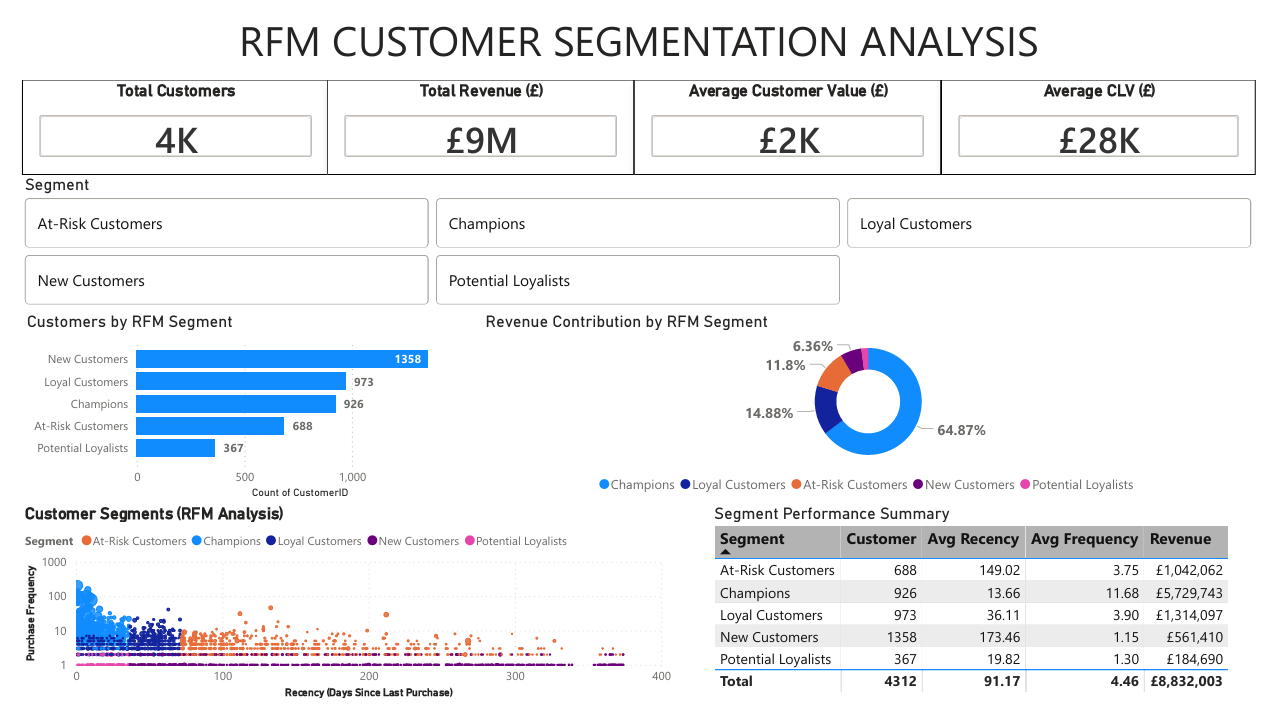

The page's visual inventory and layout, read from the dashboard file:
{"tool":"powerbi","page":{"name":"Page 1","canvas":[1280,720],"ordinal":0},"visuals":[{"type":"cardVisual","title":"Total Customers","fields":{"Data":["rfm_segments.Total Customers"]},"box":[1.7,74.5,318,99.4],"z":0},{"type":"cardVisual","title":"Total Revenue (£)","fields":{"Data":["select","rfm_segments.Total Revenue"]},"box":[318,74.5,318,99.4],"z":1000},{"type":"cardVisual","title":"Average Customer Value (£)","fields":{"Data":["rfm_segments.Avg Customer Value"]},"box":[636.1,74.5,318,99.4],"z":2000},{"type":"cardVisual","title":"Average CLV (£)","fields":{"Data":["rfm_segments.Avg CLV"]},"box":[954.1,74.5,326.3,99.4],"z":3000},{"type":"clusteredBarChart","title":"Customers by RFM Segment","fields":{"Category":["rfm_segments.Segment"],"Y":["CountNonNull(rfm_segments.CustomerID)"]},"box":[1.7,314.7,477.1,198.8],"z":4000},{"type":"donutChart","title":"Revenue Contribution by RFM Segment","fields":{"Category":["rfm_segments.Segment"],"Y":["Sum(rfm_segments.Monetary)"]},"box":[478.7,314.7,801.7,198.8],"z":5000},{"type":"scatterChart","title":"Customer Segments (RFM Analysis)","fields":{"X":["rfm_segments.Recency"],"Size":["Sum(rfm_segments.Monetary)"],"Series":["rfm_segments.Segment"],"Y":["rfm_segments.Frequency"]},"box":[0,513.5,679.2,207.1],"z":6000},{"type":"tableEx","title":"Segment Performance Summary","fields":{"Values":["rfm_segments.Segment","rfm_segments.CustomerID","Avg(rfm_segments.Recency)","Avg(rfm_segments.Frequency)","Sum(rfm_segments.Monetary)"]},"box":[713.9,513.5,548.3,207.1],"z":7000},{"type":"advancedSlicerVisual","fields":{"Values":["rfm_segments.Segment"]},"box":[0,173.9,1278.8,140.8],"z":8000},{"type":"textbox","box":[1.7,0,1278.8,74.5],"z":9000}]}

Visuals, with their boxes in screenshot pixels (x1, y1, x2, y2), scaled from the page's 1280x720 canvas onto the 1267x706 screenshot:
"Total Customers" cardVisual: {"left": 2, "top": 73, "right": 316, "bottom": 171}
"Total Revenue (£)" cardVisual: {"left": 315, "top": 73, "right": 630, "bottom": 171}
"Average Customer Value (£)" cardVisual: {"left": 630, "top": 73, "right": 944, "bottom": 171}
"Average CLV (£)" cardVisual: {"left": 944, "top": 73, "right": 1266, "bottom": 171}
"Customers by RFM Segment" clusteredBarChart: {"left": 2, "top": 309, "right": 474, "bottom": 504}
"Revenue Contribution by RFM Segment" donutChart: {"left": 474, "top": 309, "right": 1266, "bottom": 504}
"Customer Segments (RFM Analysis)" scatterChart: {"left": 0, "top": 504, "right": 672, "bottom": 705}
"Segment Performance Summary" tableEx: {"left": 707, "top": 504, "right": 1249, "bottom": 705}
advancedSlicerVisual - rfm_segments.Segment: {"left": 0, "top": 171, "right": 1266, "bottom": 309}
textbox: {"left": 2, "top": 0, "right": 1266, "bottom": 73}
